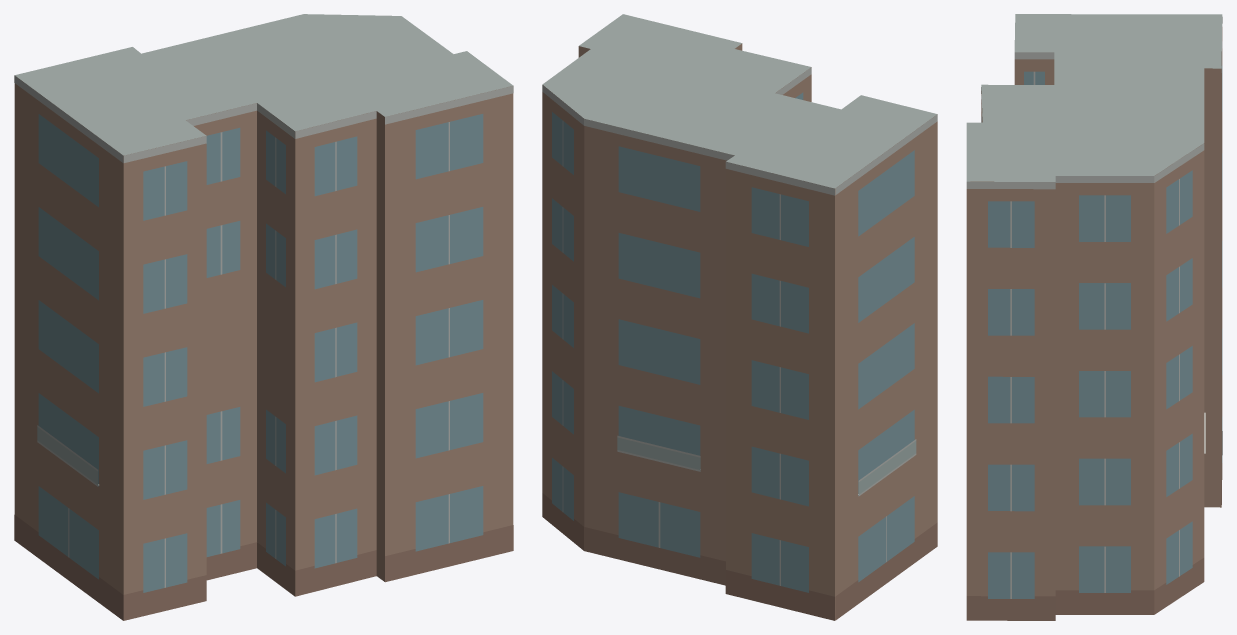
Rendered from survey-upis-32465069.glb.
3 views of the same model, side by side, from view 1: azimuth 30°, elevation 25°; view 2: azimuth 150°, elevation 25°; view 3: azimuth 270°, elevation 25° (orthographic). The views are drawn at different scales.
Visible parts, largest first — view 1: survey-upis-32465069.tmp; view 2: survey-upis-32465069.tmp; view 3: survey-upis-32465069.tmp.
Part boxes in pixels (x1=…): survey-upis-32465069.tmp: x1=14, y1=14, x2=513, y2=620; survey-upis-32465069.tmp: x1=542, y1=14, x2=937, y2=620; survey-upis-32465069.tmp: x1=966, y1=14, x2=1222, y2=620.
Bounding box in the file's own units: 12.19 × 14.8 × 7.83.
